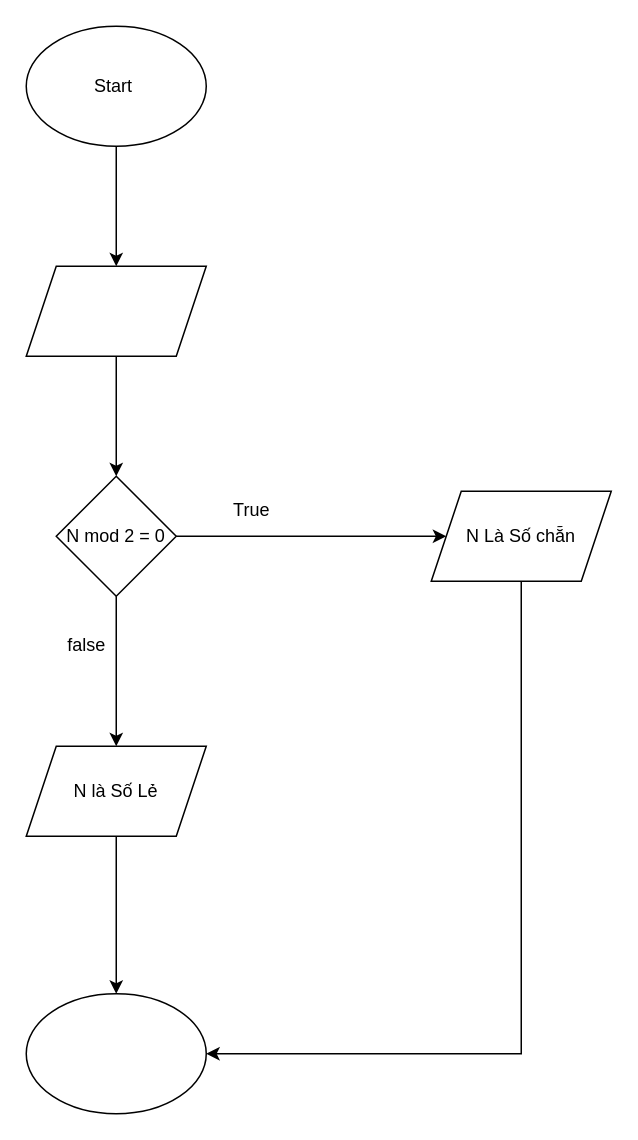
This 638x1140 diagram has some shape labels left out. The shapes that lost their labels are listed below. From the top down, each one's centre as x and y in pixels, then its label:
(115,310): Nhập Số N
(115,1053): end
